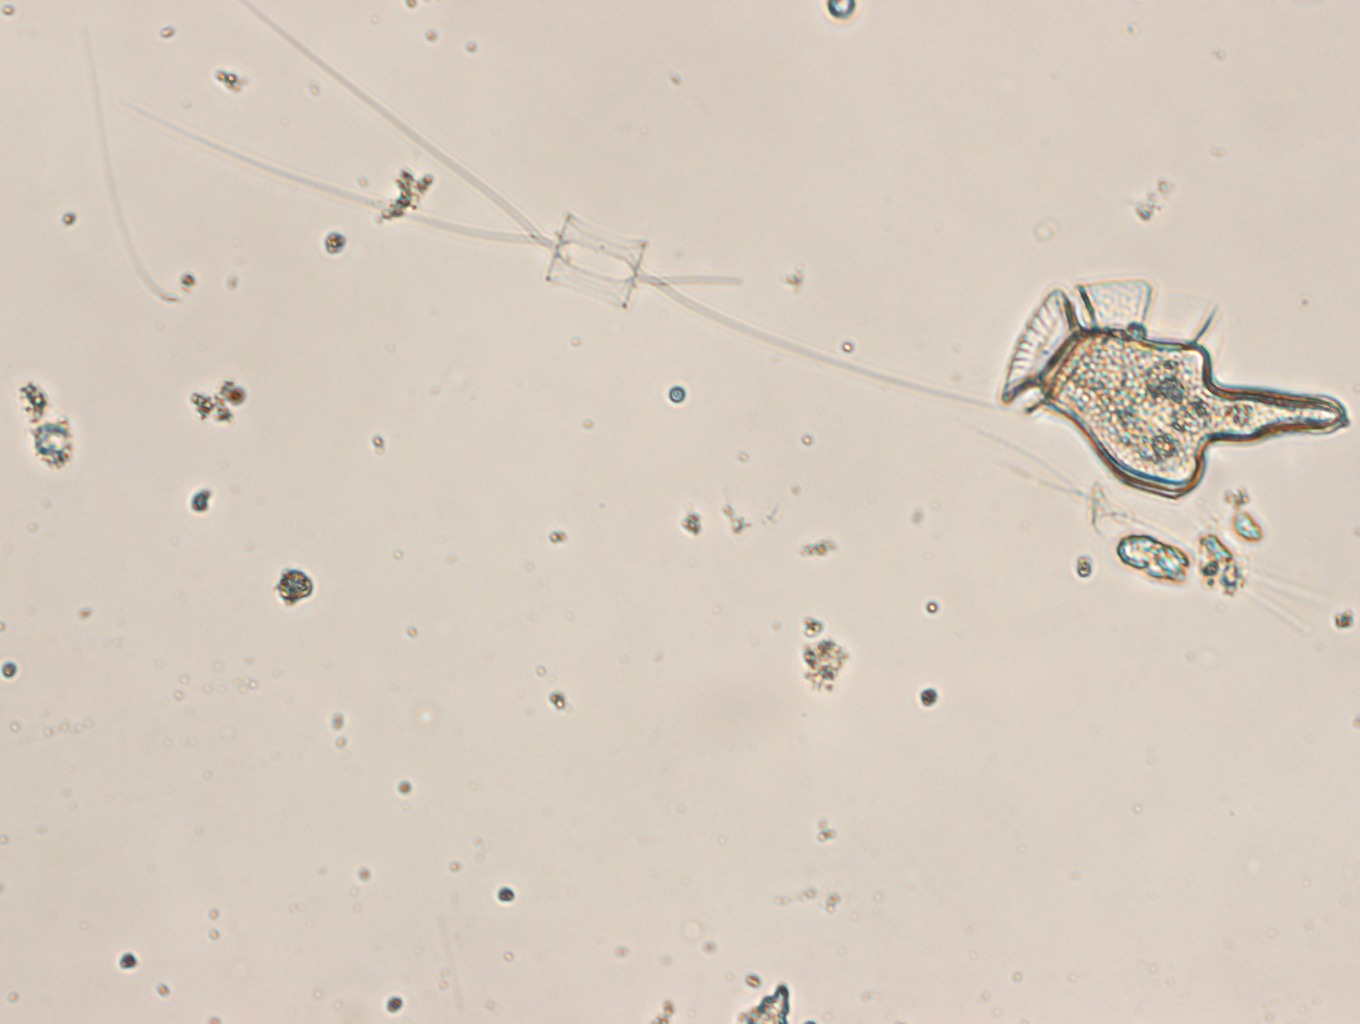chaetoceros: (117, 10, 975, 433)
dinophysis caudata: (994, 261, 1350, 492)
